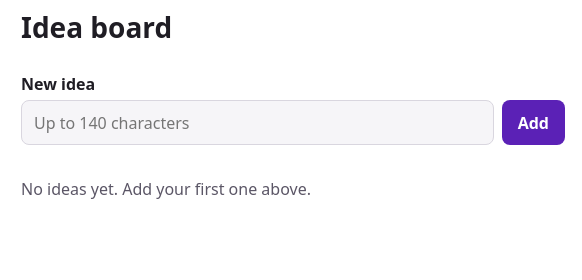
Scenario: IdeaBoard › keeps the idea visible and shows a message when saving fails
The width and height of the screenshot is (582, 280).
Type "Unsaved" into the field labelled "New idea" at (257, 123), box [21,100,494,145]
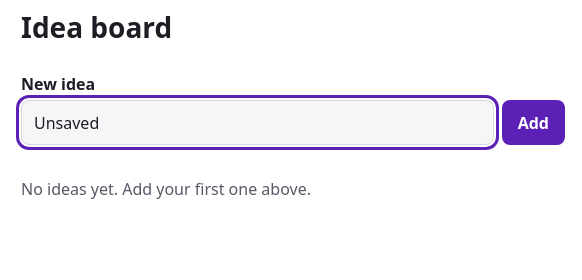
Click the button "Add" at (533, 123), box [502,100,565,145]
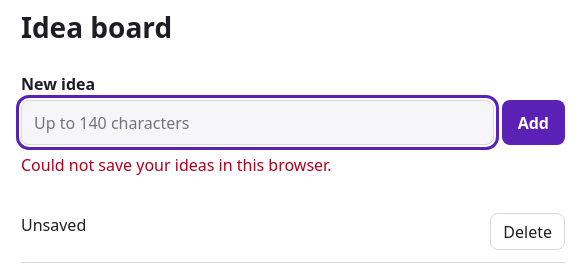
Expected: the message reads "Could not save your ideas in this browser.", [21,154,331,176]
